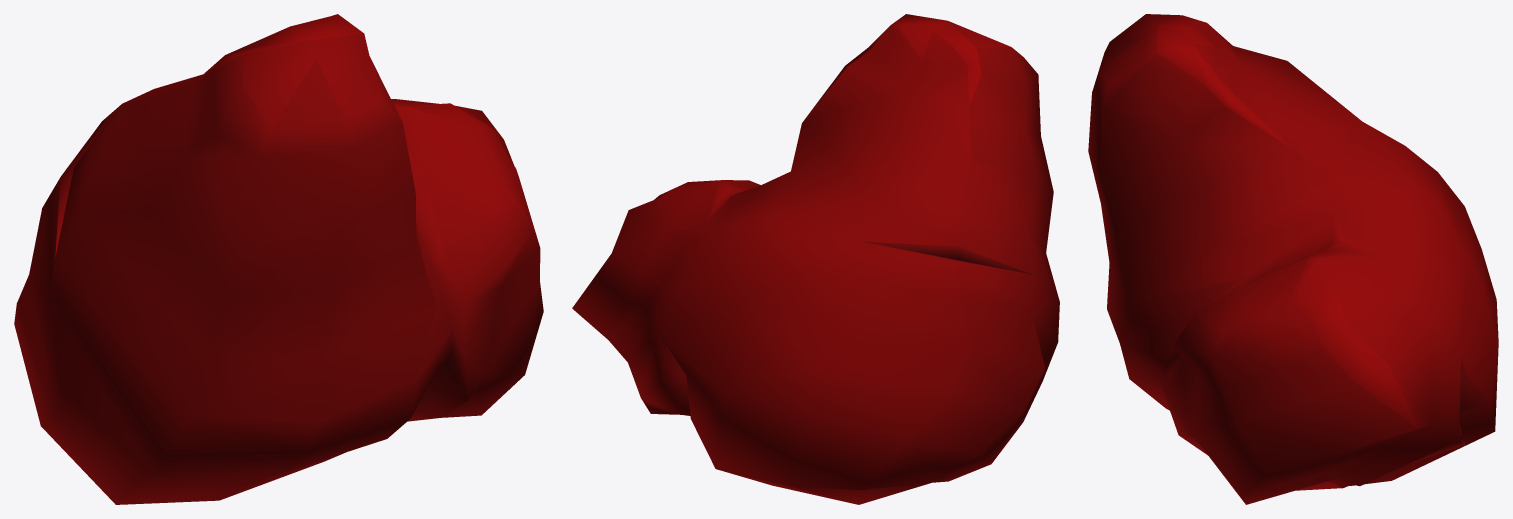
File: geology-rocks-slantedrock_v8.fbx
3 views of the same model, side by side, from view 1: azimuth 30°, elevation 25°; view 2: azimuth 150°, elevation 25°; view 3: azimuth 270°, elevation 25° (orthographic). The views are drawn at different scales.
Parts seen in each view (by area): view 1: SlantedRock_v8; view 2: SlantedRock_v8; view 3: SlantedRock_v8.
Boxes of the visible parts, x1,y1,x2,y2 form: SlantedRock_v8: (14, 14, 543, 504); SlantedRock_v8: (572, 14, 1059, 504); SlantedRock_v8: (1088, 14, 1498, 504).
Size of the model in its own units: 13.46 by 13.24 by 11.4.
